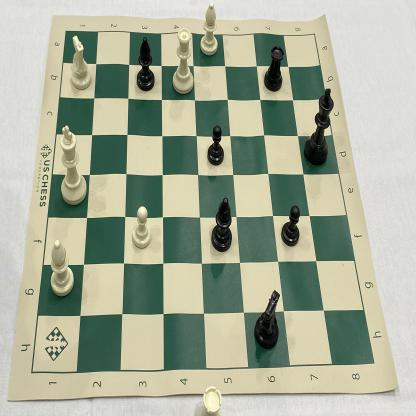black-bishop: (209, 195, 236, 258), (133, 29, 159, 94)
black-king: (301, 81, 338, 170)
black-knight: (251, 284, 286, 351)
black-pawn: (279, 204, 303, 250), (205, 122, 227, 170)
black-rook: (259, 40, 288, 99)
white-bishop: (46, 233, 80, 299), (198, 0, 222, 59)
white-king: (55, 117, 92, 211)
white-knight: (65, 28, 98, 93)
white-pawn: (128, 202, 154, 251)
white-queen: (170, 24, 200, 100)
